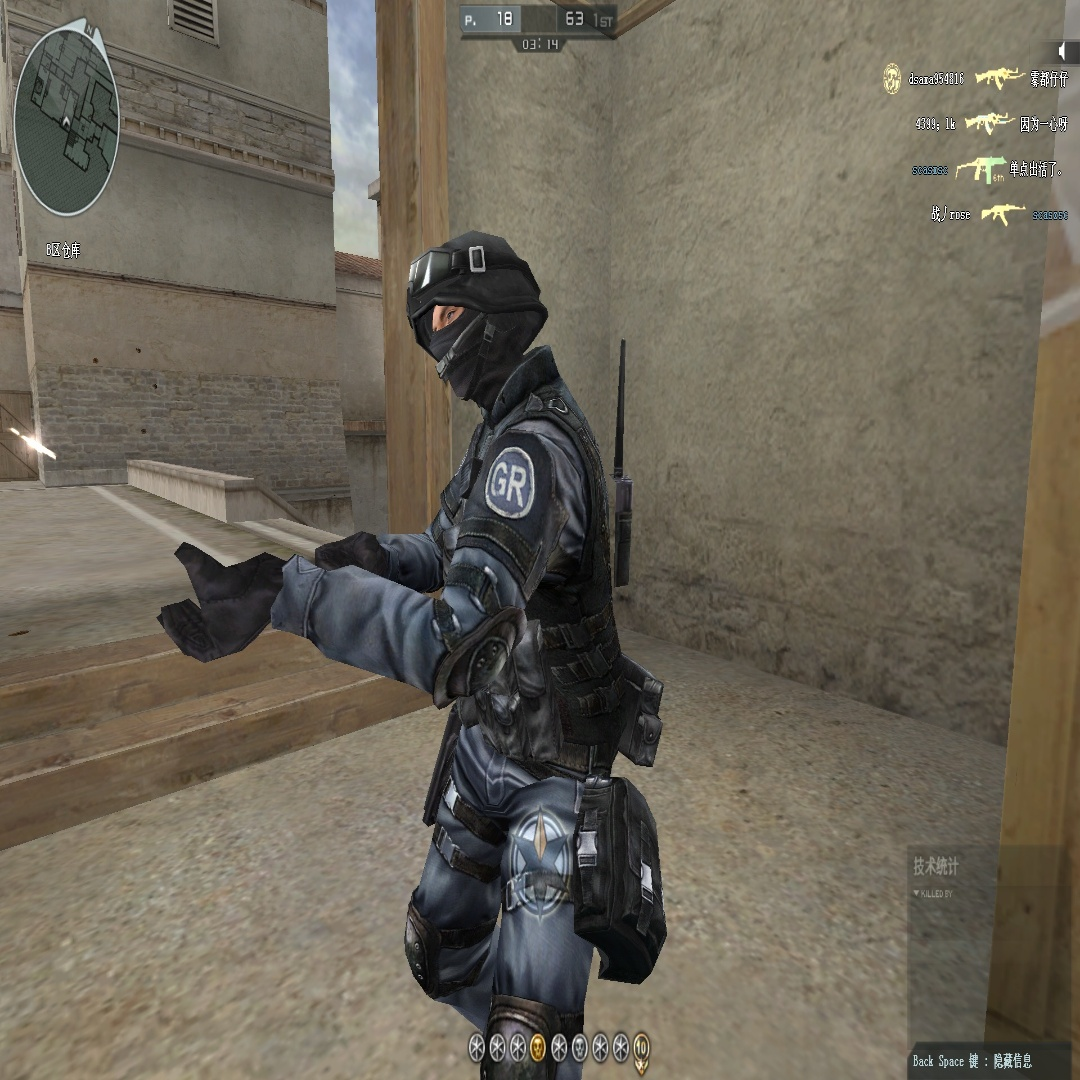head: (412, 227, 533, 416)
p: (158, 225, 663, 828)
